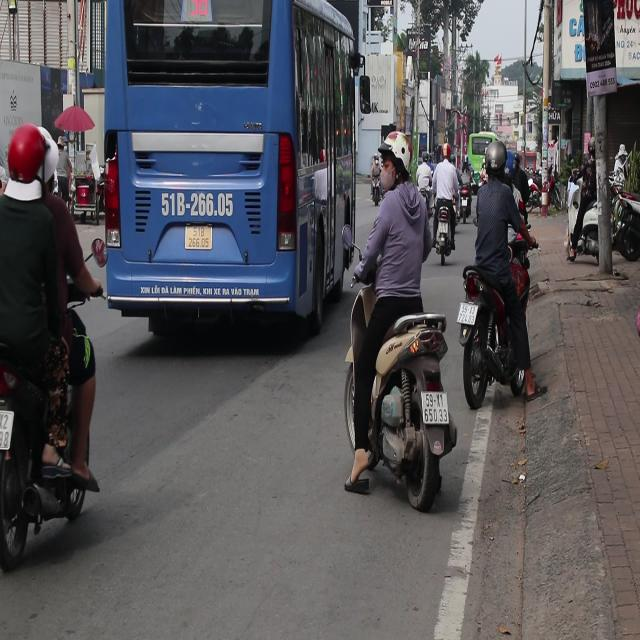bus: (89, 0, 369, 337), (466, 133, 504, 175)
motorbike: (1, 320, 102, 567), (355, 294, 457, 510), (453, 244, 538, 413), (570, 156, 640, 270), (434, 205, 456, 261), (458, 182, 474, 221), (416, 172, 432, 208), (459, 188, 474, 224), (368, 168, 382, 203), (526, 188, 541, 216)
